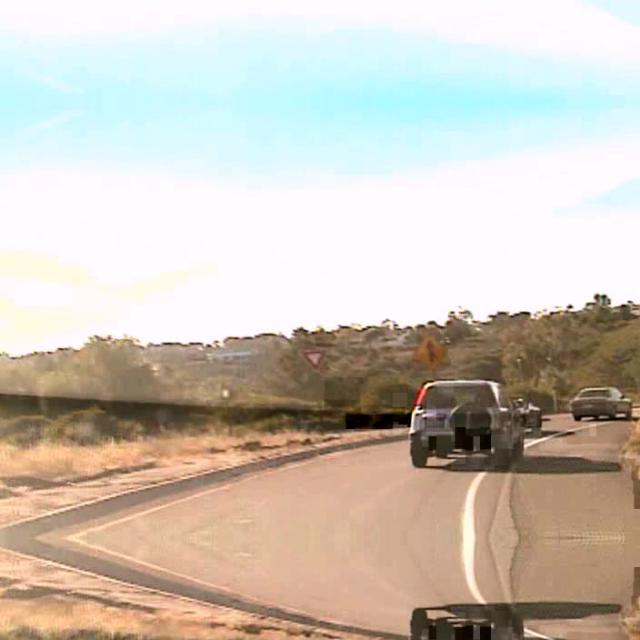yield: (301, 347, 325, 369)
